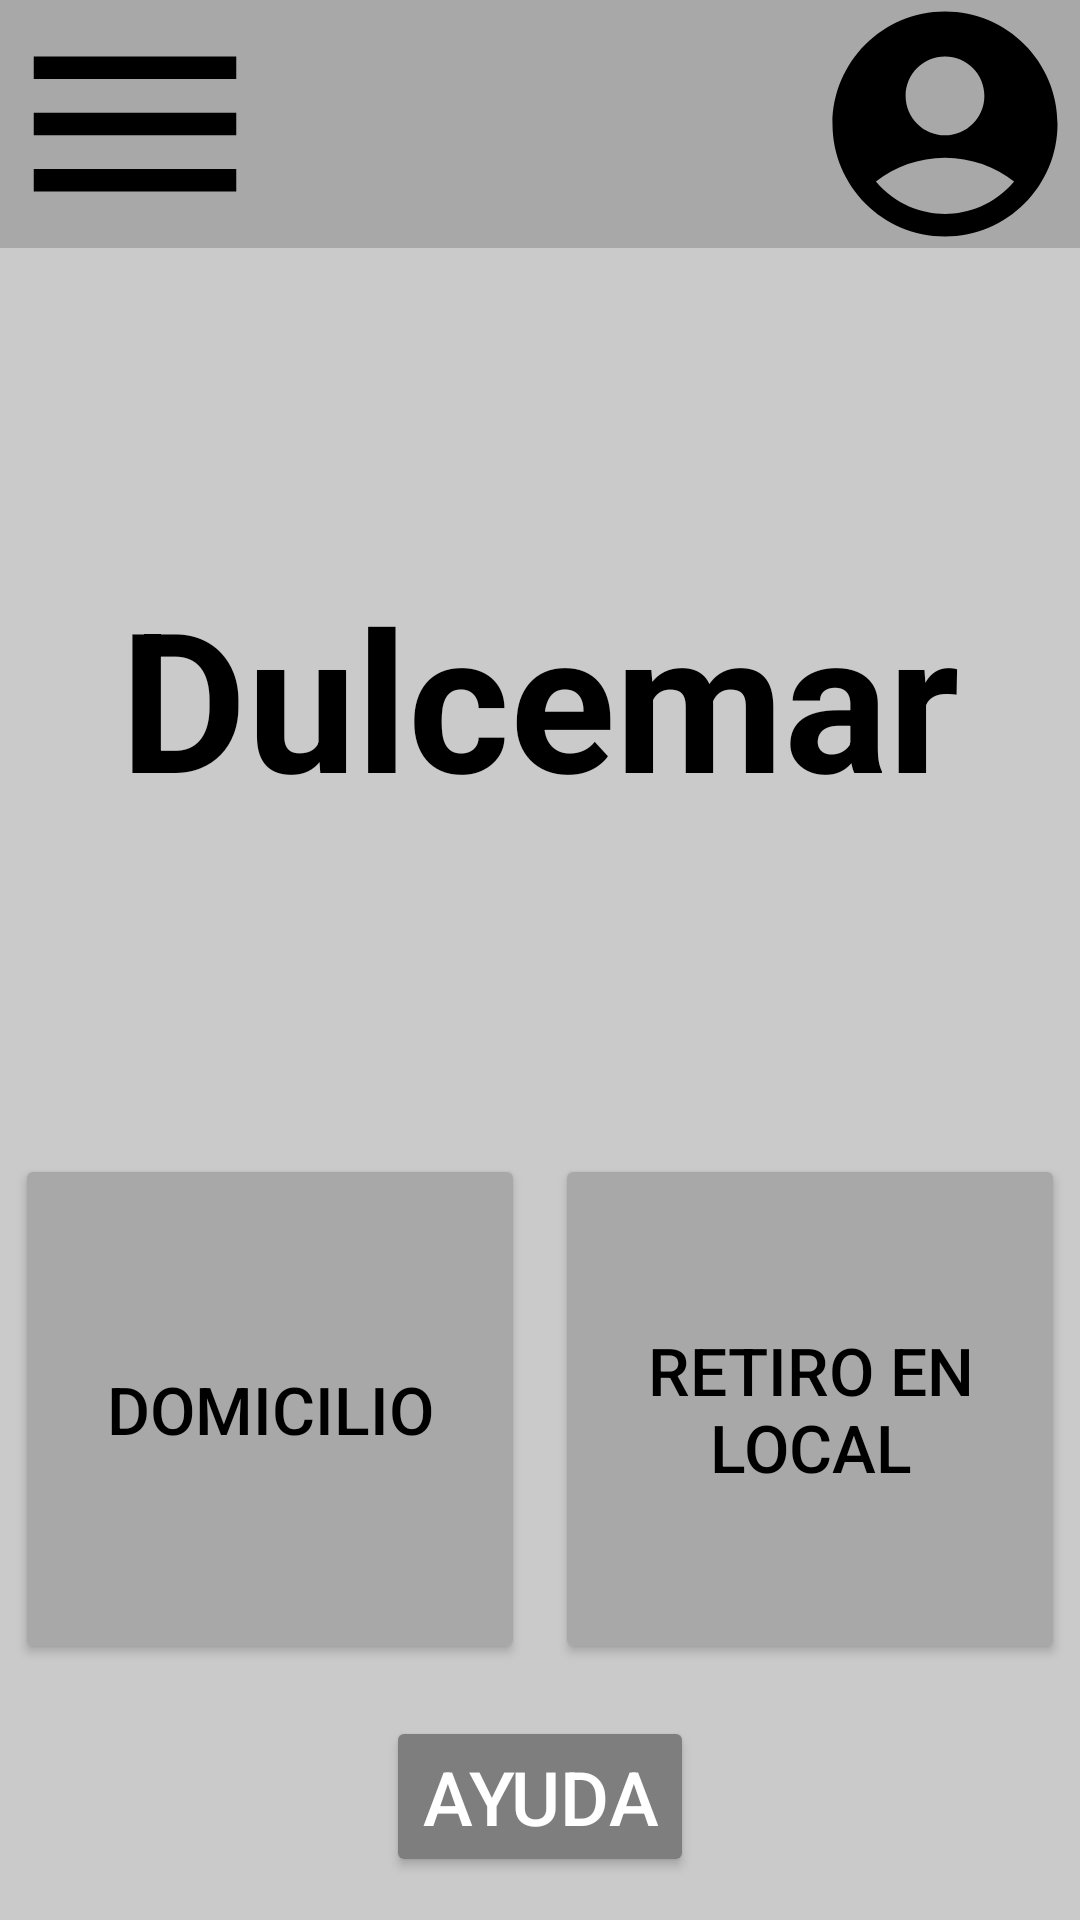

Icon bounding boxes for this 1080px×1920px phone screenshot, format (x1, y1, x2, y2):
account: (832, 11, 1058, 237)
opciones: (33, 56, 237, 192)
